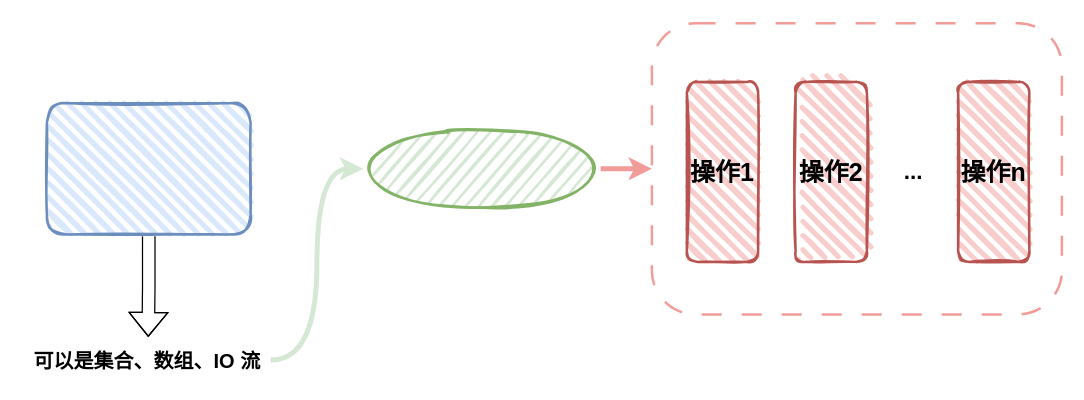
Image size: 1084x400. Some labels were removed from this diagram. The shapes that lost their labels are listed below. From the top down, each one's box as (x1, y1, x2, y2) in pixels, then its label:
(45, 101, 251, 235): Stream 的源头
(361, 126, 601, 210): 创建 Stream 的实例
